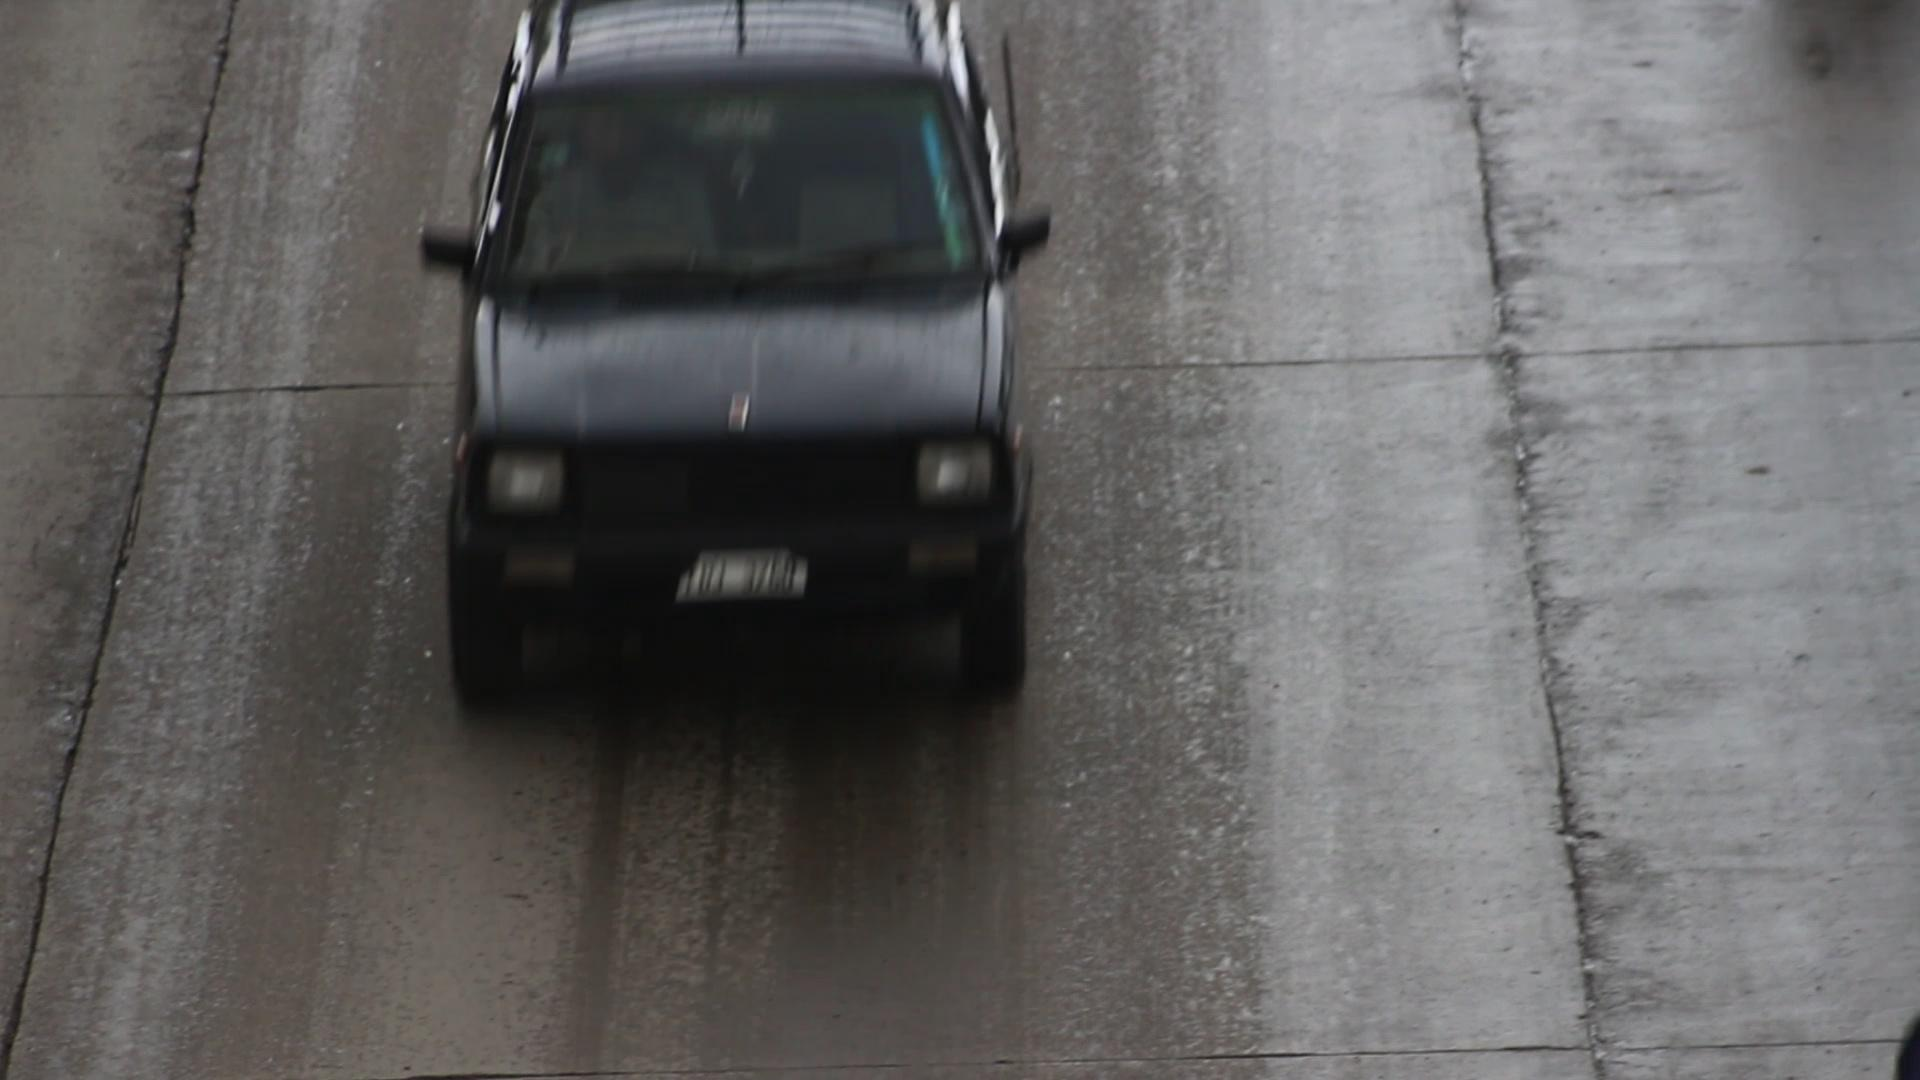windshield: (475, 70, 1007, 314)
